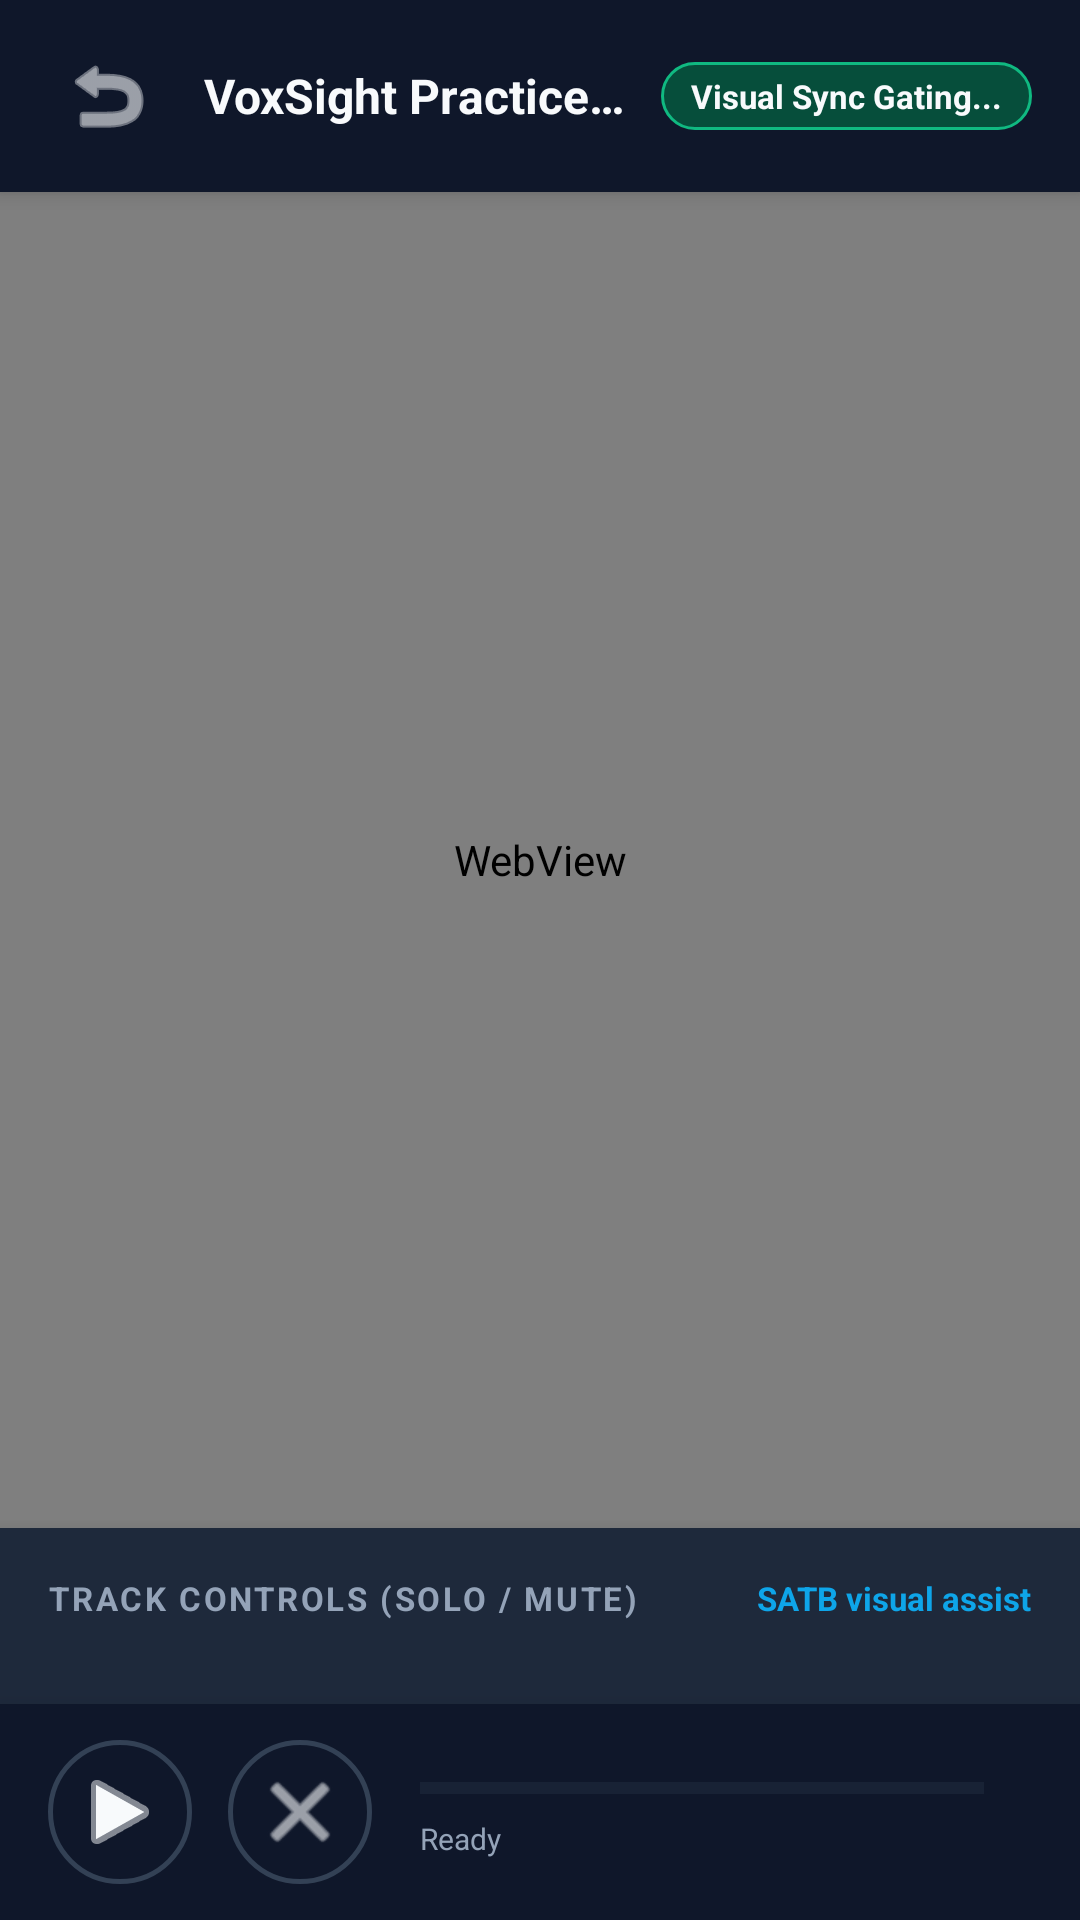

Locate icon controls on the screen. Image size 1080px×1920px, boxes as (x1, y1, x2, y2).
Go Back: (75, 65, 144, 128)
Play/Pause: (48, 1740, 192, 1884)
